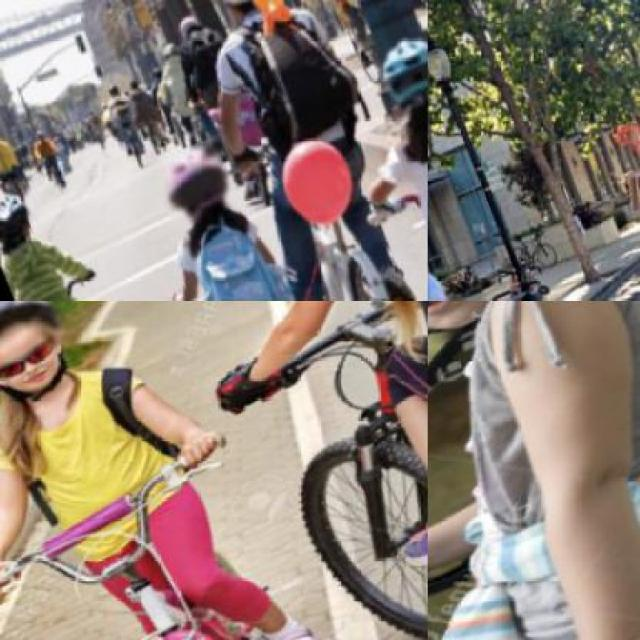With Helmet: (428, 300, 618, 408), (147, 136, 241, 236), (0, 300, 74, 389), (366, 25, 426, 132), (0, 177, 45, 261)
Without Helmet: (204, 0, 281, 32)
